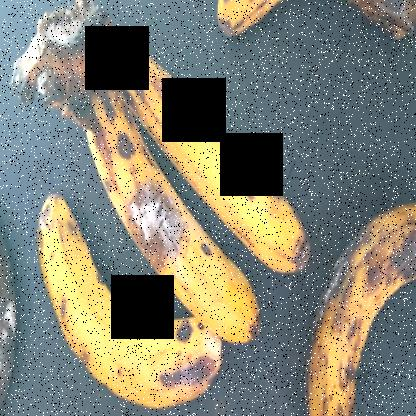ripe: (132, 26, 317, 276), (31, 193, 232, 415)
rotten: (293, 193, 415, 415), (181, 1, 415, 65), (0, 168, 19, 415)
